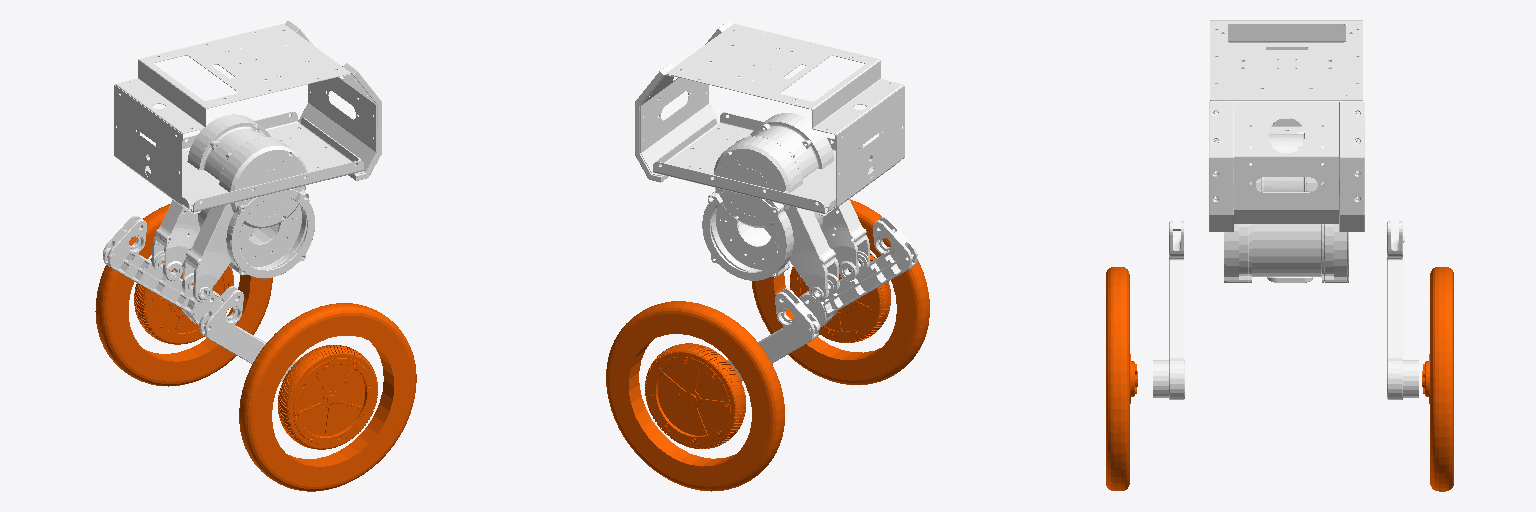
The robot description file, URDF, robot "diablo_pluspro_stand":
<?xml version="1.0" encoding="utf-8"?>
<!-- This URDF was automatically created by SolidWorks to URDF Exporter! Originally created by [author] ([email redacted]) 
     Commit Version: 1.6.0-4-g7f85cfe  Build Version: 1.6.7995.38578
     For more information, please see http://wiki.ros.org/sw_urdf_exporter -->
<robot
  name="diablo_pluspro_stand">
  <material name="black">
    <color rgba="0.0 0.0 0.0 1.0"/>
  </material>
  <material name="blue">
      <color rgba="0.0 0.0 0.8 1.0"/>
  </material>
  <material name="green">
      <color rgba="0.0 0.8 0.0 1.0"/>
  </material>
  <material name="grey">
      <color rgba="0.2 0.2 0.2 1.0"/>
  </material>
  <material name="silver">
      <color rgba="0.9137254901960784 0.9137254901960784 0.8470588235294118 1.0"/>
  </material>
  <material name="orange">
      <color rgba="1.0 0.4235294117647059 0.0392156862745098 1.0"/>
  </material>
  <material name="brown">
      <color rgba="0.8705882352941177 0.8117647058823529 0.7647058823529411 1.0"/>
  </material>
  <material name="red">
      <color rgba="0.8 0.0 0.0 1.0"/>
  </material>
  <material name="white">
      <color rgba="1.0 1.0 1.0 1.0"/>
  </material>
  <link
    name="base_link">
    <inertial>
      <origin
        xyz="0.017899 -0.019179 0.16091"
        rpy="0 0 0" />
      <mass
        value="8.53" />
      <inertia
        ixx="0.8371974"
        ixy="-0.06254957"
        ixz="-0.01618499"
        iyy="0.8708397"
        iyz="0.003006719"
        izz="0.3425067" />
    </inertial>
    <visual>
      <origin
        xyz="0 0 0"
        rpy="0 0 0" />
      <geometry>
        <mesh
          filename="../meshes/base_link.STL" />
      </geometry>
      <material
        name="">
        <color
          rgba="1 1 1 1" />
      </material>
    </visual>
    <collision>
      <origin
        xyz="0 0 0"
        rpy="0 0 0" />
      <geometry>
        <mesh
          filename="../meshes/base_link.STL" />
      </geometry>
    </collision>
  </link>
  <link
    name="left_hip_link">
    <inertial>
      <origin
        xyz="-0.028034 0.083955 -0.03225"
        rpy="0 0 0" />
      <mass
        value="5.1" />
      <inertia
        ixx="0.01137421"
        ixy="0.00070511460"
        ixz="0.00124554"
        iyy="0.0082006541"
        iyz="0.0029798900"
        izz="0.0060506903" />
    </inertial>
    <visual>
      <origin
        xyz="0 0 0"
        rpy="0 0 0" />
      <geometry>
        <mesh
          filename="../meshes/left_hip_link.STL" />
      </geometry>
      <material
        name="">
        <color
          rgba="1 1 1 1" />
      </material>
    </visual>
    <collision>
      <origin
        xyz="0 0 0"
        rpy="0 0 0" />
      <geometry>
        <mesh
          filename="../meshes/left_hip_link.STL" />
      </geometry>
    </collision>
  </link>
  <joint
    name="left_hip_joint"
    type="revolute">
    <origin
      xyz="0 0.0428 0.075997"
      rpy="0 0 0" />
    <parent
      link="base_link" />
    <child
      link="left_hip_link" />
    <axis
      xyz="0 1 0" />
    <limit
      lower="-1.57"
      upper="1.57"
      effort="80"
      velocity="15" />
  </joint>
  <link
    name="left_knee_link">
    <inertial>
      <origin
        xyz="0.058585 -0.0059746 -0.081982"
        rpy="0 0 0" />
      <mass
        value="2.17" />
      <inertia
        ixx="0.0044665319"
        ixy="1.2345077E-05"
        ixz="-0.00023975799"
        iyy="0.0046256777"
        iyz="-0.00022848392"
        izz="0.0002702575" />
    </inertial>
    <visual>
      <origin
        xyz="0 0 0"
        rpy="0 0 0" />
      <geometry>
        <mesh
          filename="../meshes/left_knee_link.STL" />
      </geometry>
      <material
        name="">
        <color
          rgba="1 1 1 1" />
      </material>
    </visual>
    <collision>
      <origin
        xyz="0 0 0"
        rpy="0 0 0" />
      <geometry>
        <mesh
          filename="../meshes/left_knee_link.STL" />
      </geometry>
    </collision>
  </link>
  <joint
    name="left_knee_joint"
    type="revolute">
    <origin
      xyz="-0.12022 0.11148 -0.15983"
      rpy="0 0 0" />
    <parent
      link="left_hip_link" />
    <child
      link="left_knee_link" />
    <axis
      xyz="0 1 0" />
    <limit
      lower="-1.57"
      upper="0"
      effort="80"
      velocity="15" />
  </joint>
  <link
    name="left_wheel_link">
    <inertial>
      <origin
        xyz="-2.0554E-06 0.028353 3.331E-07"
        rpy="0 0 0" />
      <mass
        value="2" />
      <inertia
        ixx="0.013847"
        ixy="-1.0976E-07"
        ixz="-3.0619E-09"
        iyy="0.027351"
        iyz="8.9065E-09"
        izz="0.013847" />
    </inertial>
    <visual>
      <origin
        xyz="0 0 0"
        rpy="0 0 0" />
      <geometry>
        <mesh
          filename="../meshes/left_wheel_link.STL" />
      </geometry>
      <material name="orange">
          <color rgba="1.0 0.4235294117647059 0.0392156862745098 1.0"/>
      </material>
    </visual>
    <collision>
      <origin
        xyz="0 0.02 0"
        rpy="1.5707963 0 0" />
      <geometry>
        <cylinder radius="0.16" length="0.035"/>
      </geometry>
    </collision>
  </link>
  <joint
    name="left_wheel_joint"
    type="revolute">
    <origin
      xyz="0.13397 0.01346 -0.1485"
      rpy="0 0 0" />
    <parent
      link="left_knee_link" />
    <child
      link="left_wheel_link" />
    <axis
      xyz="0 1 0" />
    <limit
      lower="-1000000" 
      upper="1000000"      
      effort="20"
      velocity="30" />
    <dynamics friction="0.01" />
  </joint>
  <link
    name="right_hip_link">
    <inertial>
      <origin
        xyz="-0.028034 -0.083955 -0.032251"
        rpy="0 0 0" />
      <mass
        value="5.1" />
      <inertia
        ixx="0.01137421"
        ixy="0.00070511460"
        ixz="0.00124554"
        iyy="0.0082006541"
        iyz="0.0029798900"
        izz="0.0060506903" />
    </inertial>
    <visual>
      <origin
        xyz="0 0 0"
        rpy="0 0 0" />
      <geometry>
        <mesh
          filename="../meshes/right_hip_link.STL" />
      </geometry>
      <material
        name="">
        <color
          rgba="1 1 1 1" />
      </material>
    </visual>
    <collision>
      <origin
        xyz="0 0 0"
        rpy="0 0 0" />
      <geometry>
        <mesh
          filename="../meshes/right_hip_link.STL" />
      </geometry>
    </collision>
  </link>
  <joint
    name="right_hip_joint"
    type="revolute">
    <origin
      xyz="0 -0.0528 0.075997"
      rpy="0 0 0" />
    <parent
      link="base_link" />
    <child
      link="right_hip_link" />
    <axis
      xyz="0 1 0" />
    <limit
      lower="-1.57"
      upper="1.57"
      effort="80"
      velocity="15" />
  </joint>
  <link
    name="right_knee_link">
    <inertial>
      <origin
        xyz="0.060903 -0.0019333 -0.083431"
        rpy="0 0 0" />
      <mass
        value="2.17" />
      <inertia
        ixx="0.0044665319"
        ixy="1.2345077E-05"
        ixz="-0.00023975799"
        iyy="0.0046256777"
        iyz="-0.00022848392"
        izz="0.0002702575" />
    </inertial>
    <visual>
      <origin
        xyz="0 0 0"
        rpy="0 0 0" />
      <geometry>
        <mesh
          filename="../meshes/right_knee_link.STL" />
      </geometry>
      <material
        name="">
        <color
          rgba="1 1 1 1" />
      </material>
    </visual>
    <collision>
      <origin
        xyz="0 0 0"
        rpy="0 0 0" />
      <geometry>
        <mesh
          filename="../meshes/right_knee_link.STL" />
      </geometry>
    </collision>
  </link>
  <joint
    name="right_knee_joint"
    type="revolute">
    <origin
      xyz="-0.12022 -0.10364 -0.15983"
      rpy="0 0 0" />
    <parent
      link="right_hip_link" />
    <child
      link="right_knee_link" />
    <axis
      xyz="0 1 0" />
    <limit
      lower="-1.57"
      upper="0"
      effort="80"
      velocity="15" />
  </joint>
  <link
    name="right_wheel_link">
    <inertial>
      <origin
        xyz="-2.0311E-06 -0.019153 -4.553E-07"
        rpy="0 0 0" />
      <mass
        value="2" />
      <inertia
        ixx="0.013847"
        ixy="1.0863E-07"
        ixz="3.5235E-09"
        iyy="0.027351"
        iyz="1.5231E-08"
        izz="0.013847" />
    </inertial>
    <visual>
      <origin
        xyz="0 0 0"
        rpy="0 0 0" />
      <geometry>
        <mesh
          filename="../meshes/right_wheel_link.STL" />
      </geometry>
      <material name="orange">
          <color rgba="1.0 0.4235294117647059 0.0392156862745098 1.0"/>
      </material>
    </visual>
    <collision>
      <origin
        xyz="0 -0.02 0"
        rpy="1.5707963 0 0" />
      <geometry>
        <cylinder radius="0.16" length="0.035"/>
      </geometry>
    </collision>
  </link>
  <joint
    name="right_wheel_joint"
    type="revolute">
    <origin
      xyz="0.13397 -0.03046 -0.1485"
      rpy="0 0 0" />
    <parent
      link="right_knee_link" />
    <child
      link="right_wheel_link" />
    <axis
      xyz="0 1 0" />
    <limit
      lower="-1000000" 
      upper="1000000"      
      effort="20"
      velocity="30" />
    <dynamics friction="0.01" />
  </joint>
</robot>

--- Facts derived from the render (not from the file) ---
3 views of the same robot in one strip: view 1: azimuth 30°, elevation 25°; view 2: azimuth 150°, elevation 25°; view 3: azimuth 270°, elevation 25° (orthographic).
Robot: diablo_pluspro_stand — 7 links, 6 joints (6 revolute); root link base_link; default pose: all joints at 0.
Links seen in each view (by area): view 1: base_link, right_wheel_link, left_wheel_link, right_hip_link, left_hip_link, left_knee_link, right_knee_link; view 2: base_link, left_wheel_link, right_wheel_link, left_hip_link, right_hip_link, right_knee_link, left_knee_link; view 3: base_link, left_wheel_link, right_wheel_link, left_knee_link, right_knee_link, left_hip_link, right_hip_link.
Boxes of the visible links, x1,y1,x2,y2 form: base_link: [114, 21, 381, 278]; right_wheel_link: [239, 303, 416, 491]; left_wheel_link: [95, 204, 272, 386]; right_hip_link: [182, 133, 306, 302]; left_hip_link: [152, 114, 270, 280]; left_knee_link: [103, 216, 219, 324]; right_knee_link: [199, 286, 298, 381]; base_link: [635, 21, 904, 280]; left_wheel_link: [606, 301, 784, 491]; right_wheel_link: [752, 199, 929, 384]; left_hip_link: [714, 132, 839, 302]; right_hip_link: [750, 113, 869, 280]; right_knee_link: [799, 217, 917, 327]; left_knee_link: [727, 288, 819, 380]; base_link: [1209, 20, 1364, 282]; left_wheel_link: [1422, 267, 1453, 491]; right_wheel_link: [1106, 267, 1137, 490]; left_knee_link: [1387, 221, 1418, 399]; right_knee_link: [1153, 221, 1184, 399]; left_hip_link: [1273, 131, 1323, 191]; right_hip_link: [1249, 134, 1292, 191].
Bounding box of the posed robot: 0.371 × 0.4962 × 0.656 m (x, y, z).
Meshes: 7 distinct files referenced, 7 mesh visuals loaded (7 binary STL).
